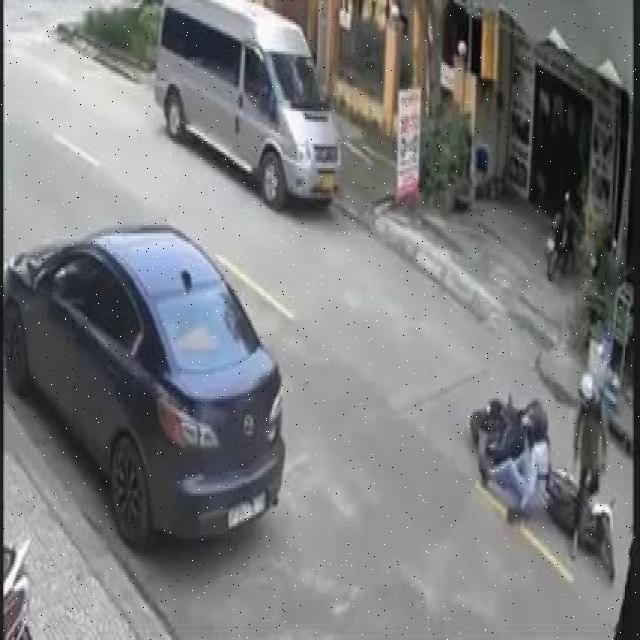accident: (466, 362, 620, 590)
